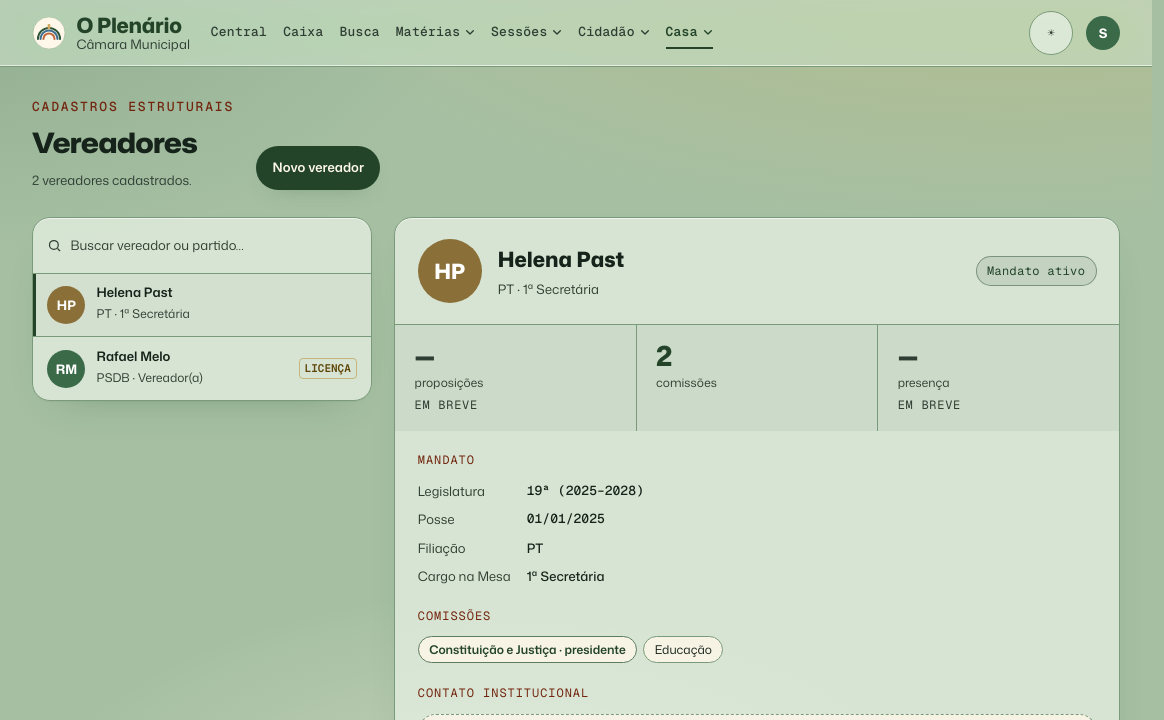
it: PaginaVereadores › Novo vereador/Editar cadastro/Registrar mandato ficam habilitados; Ver proposições segue deferido (Em breve); Registrar licença só habilita com mandato vigente
Expected: the heading "Helena Past" is shown, [498,244,624,274]
Expected: the button "Novo vereador" is enabled, [256,146,380,190]
Click the option "RM Rafael Melo PSDB · Vereador(a) Licença": (202, 368) [33,336,371,400]
(page scrolled)
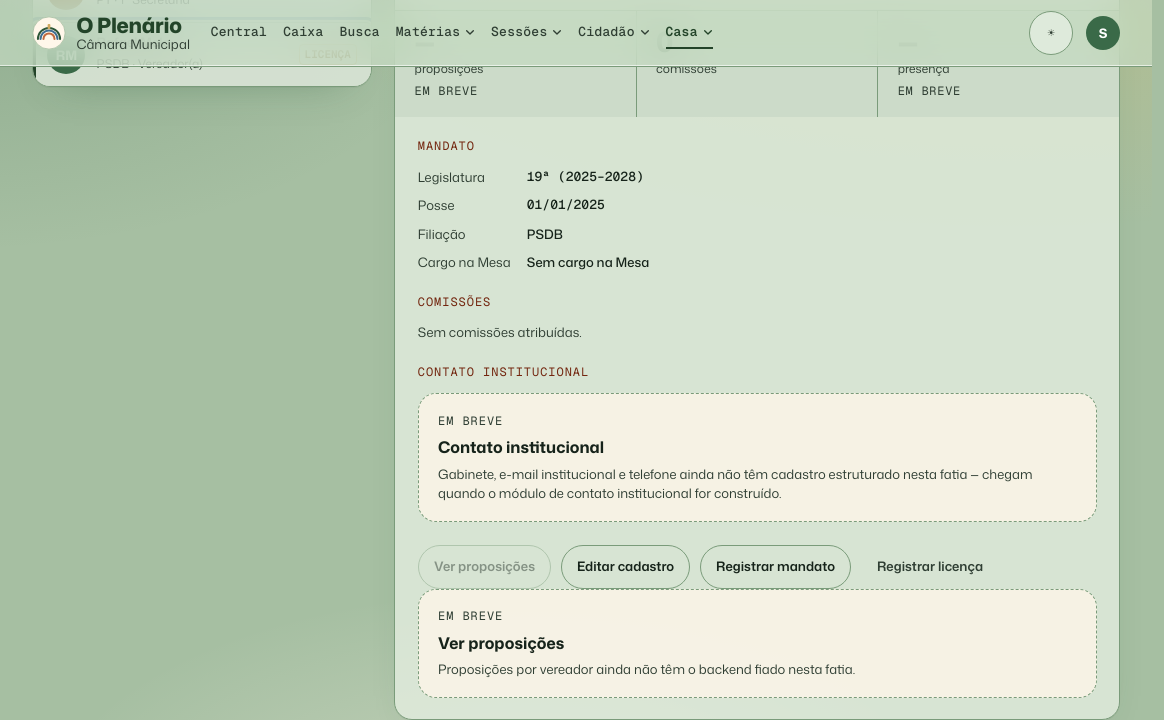
Now the button "Registrar licença" is disabled, box [861,545,999,589]
